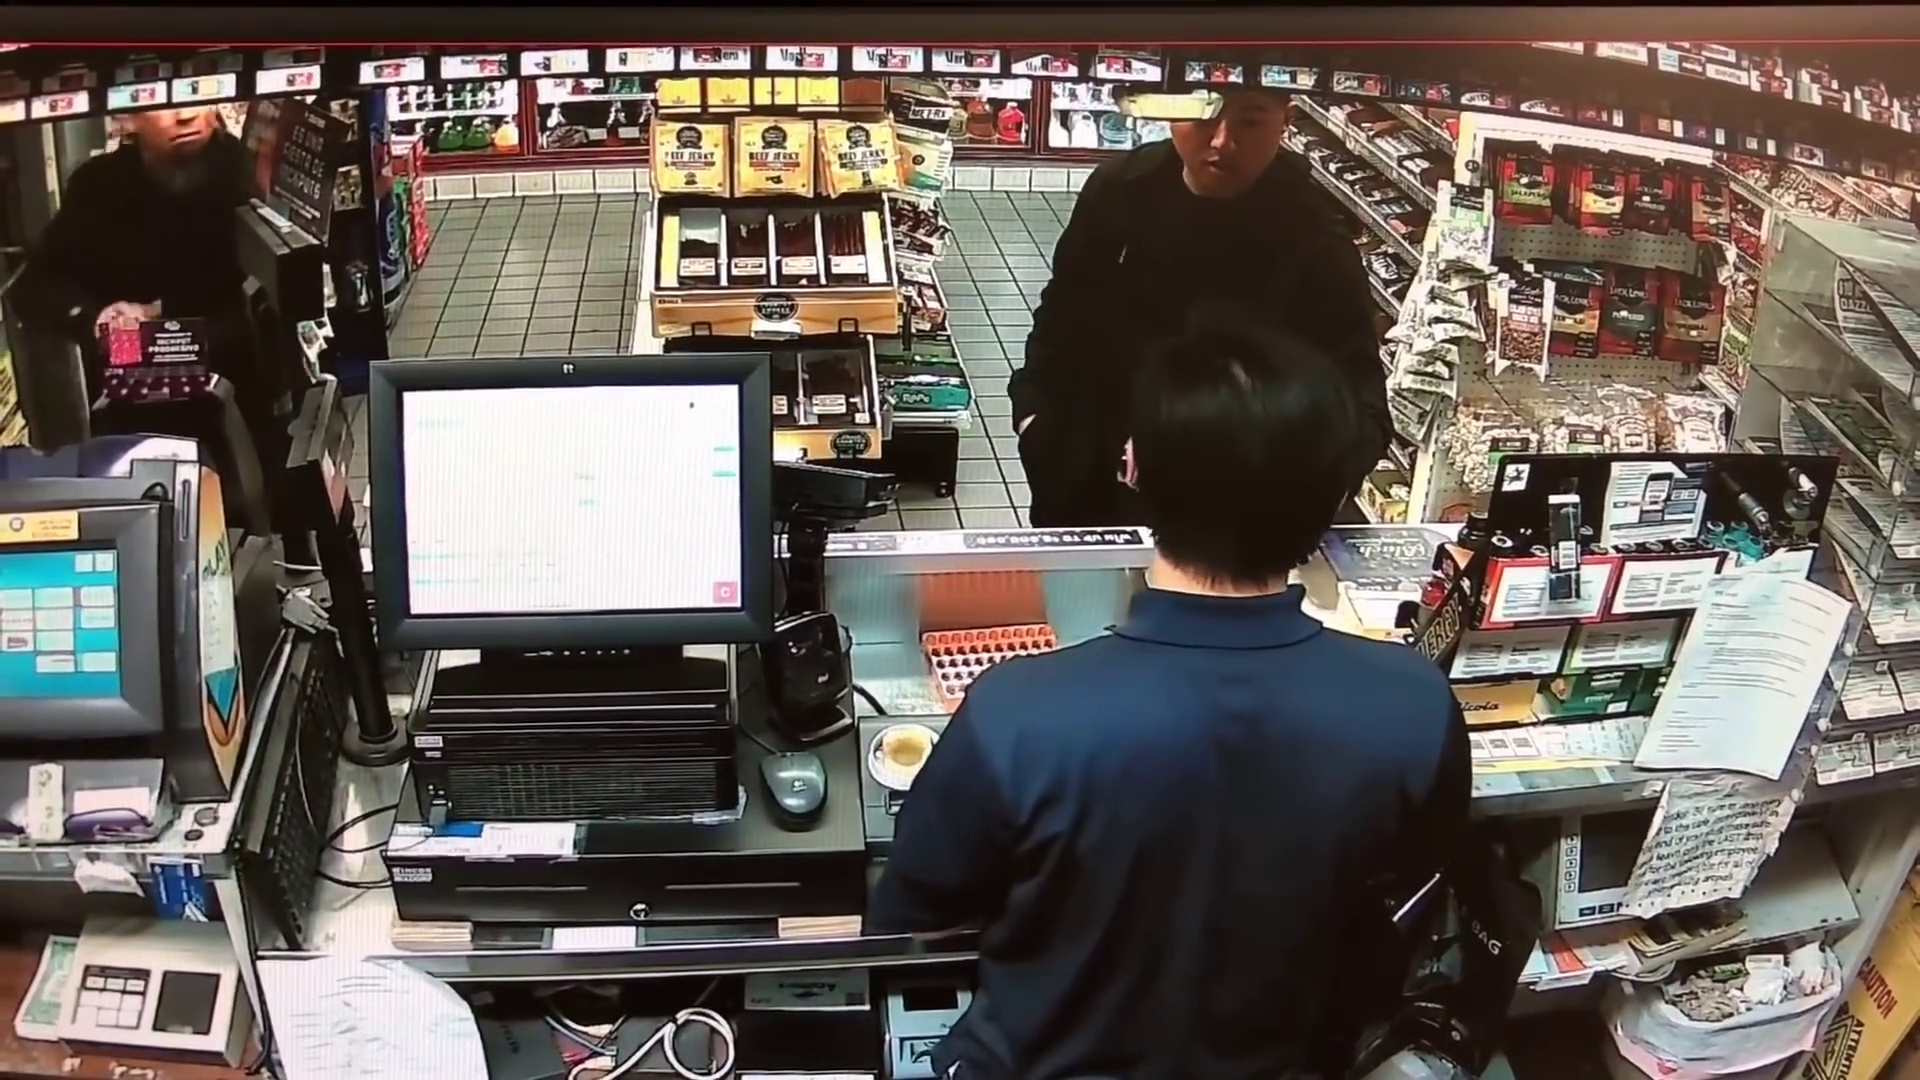face: (1169, 91, 1273, 204), (129, 97, 223, 160)
